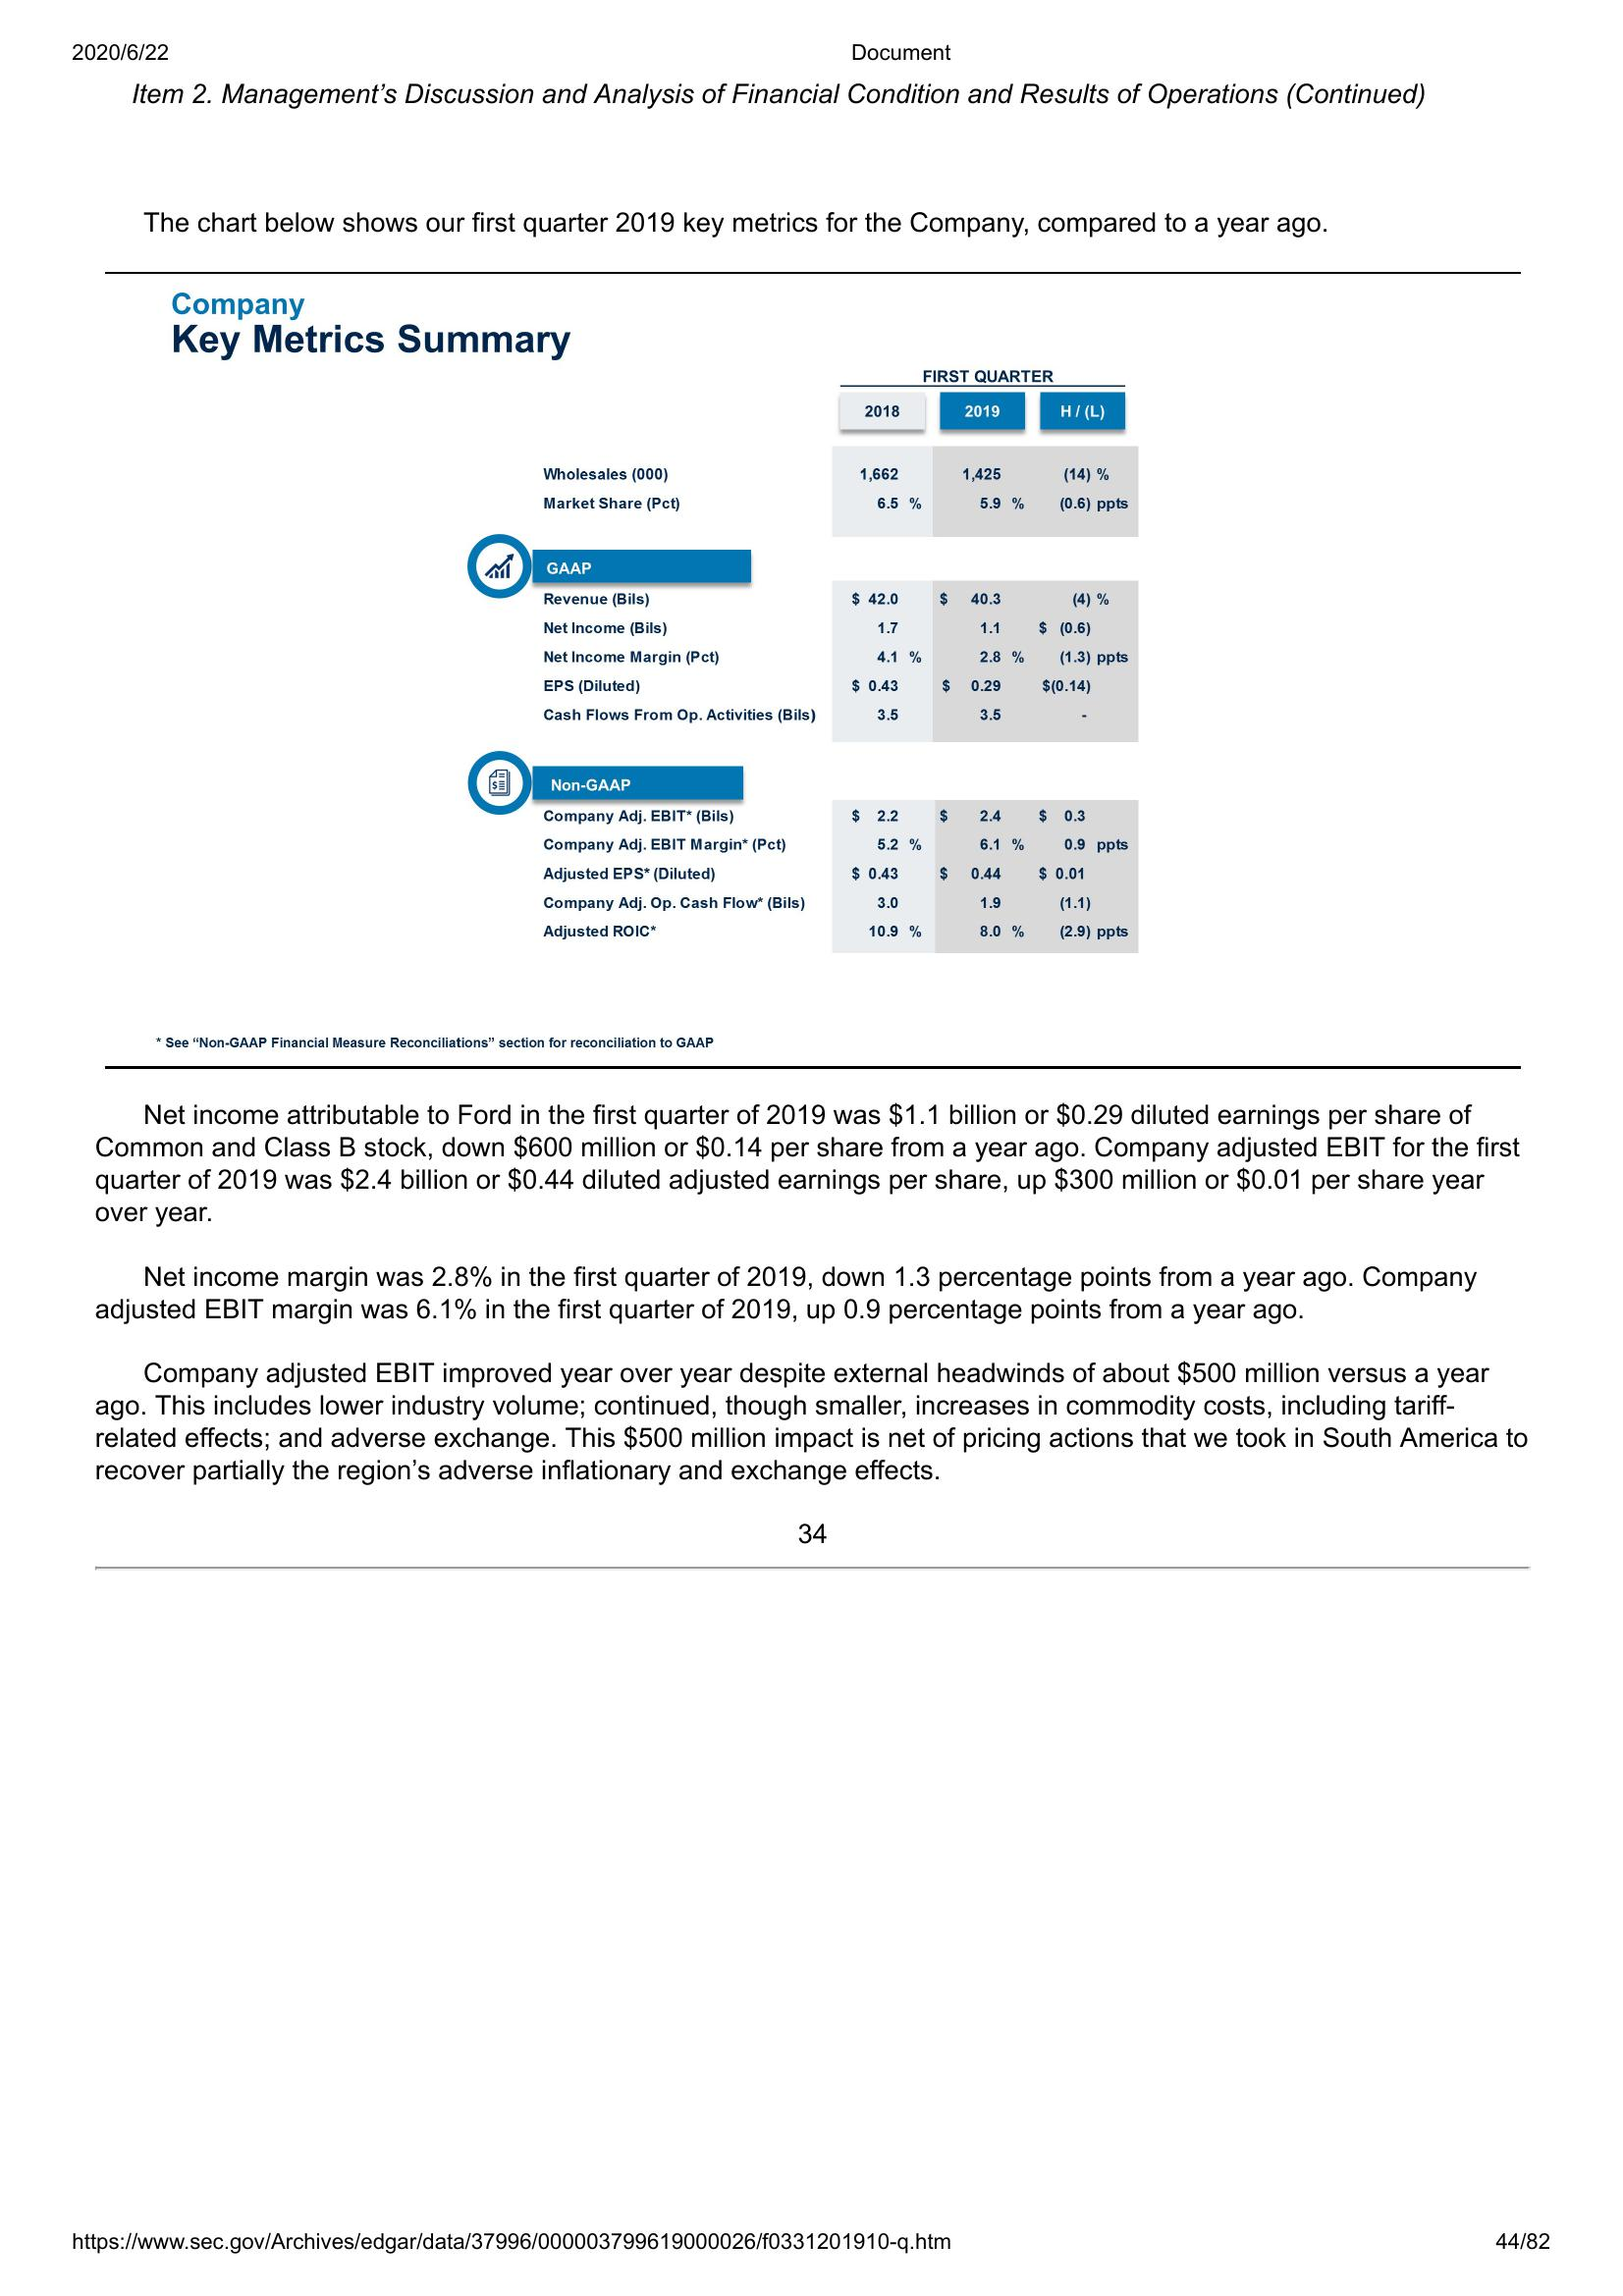table: (834, 360, 1133, 958)
